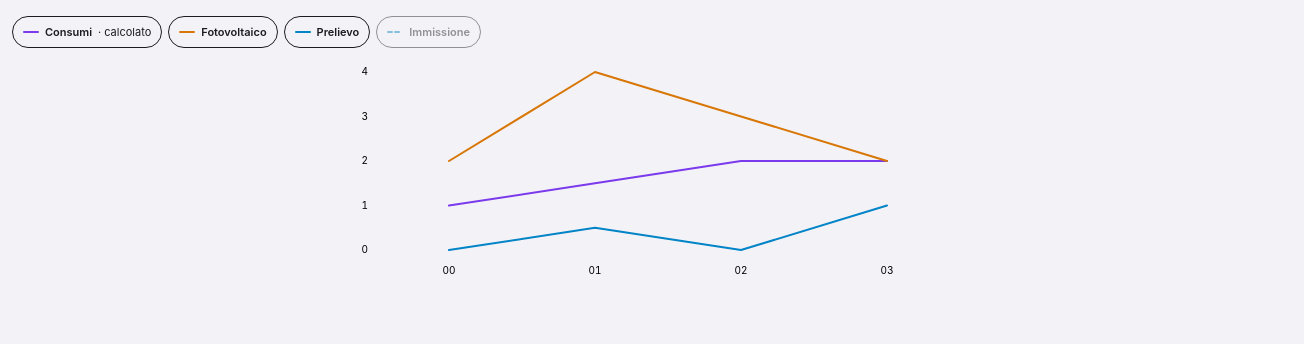
Test case: Energy history chart › hides series only visually and reads the values with the keyboard
Click the button "Immissione" at coordinates (429, 32), box [376, 16, 481, 48]
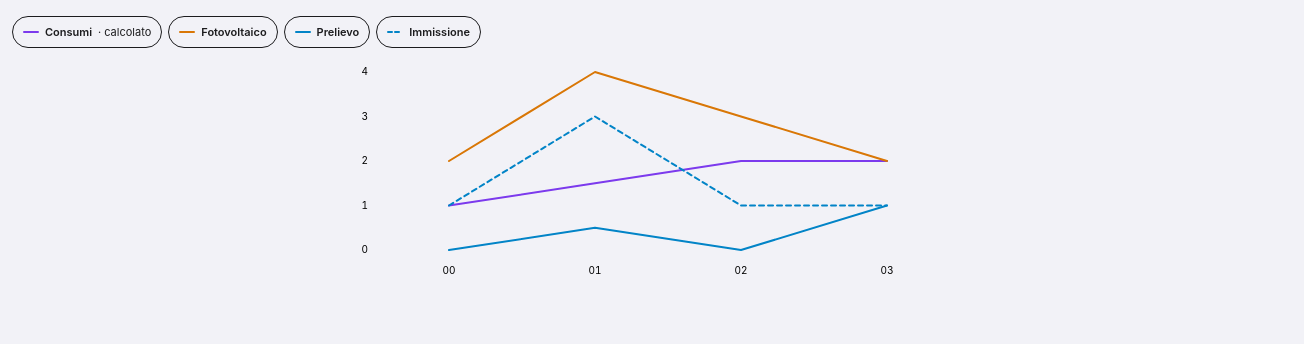
Check: the button "Immissione" is pressed, box [376, 16, 481, 48]
Press End in the picture named "Grafico dell’energia"
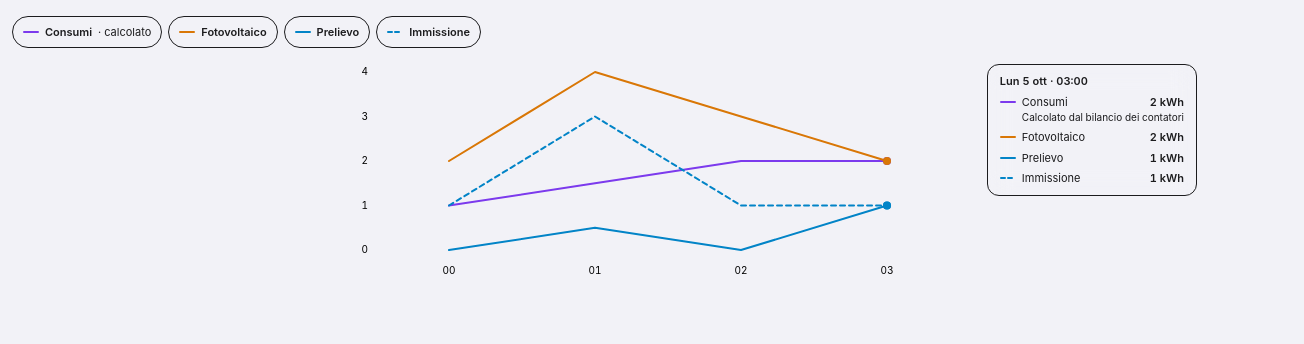
Check: the text "lun 5 ott · 03:00" is shown, box [1000, 74, 1088, 88]
Leave the picture named "Grafico dell’energia"
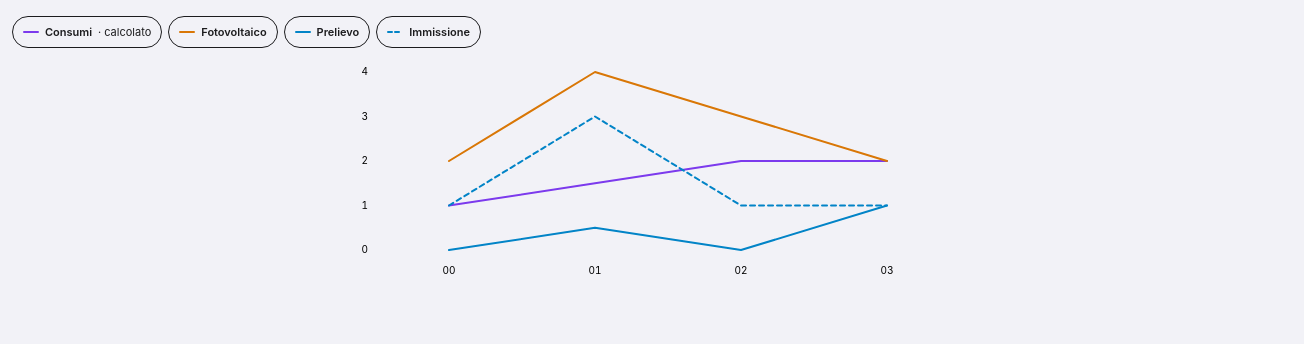
Check: the message is gone
